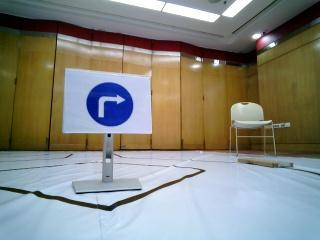right: (66, 68, 153, 135)
